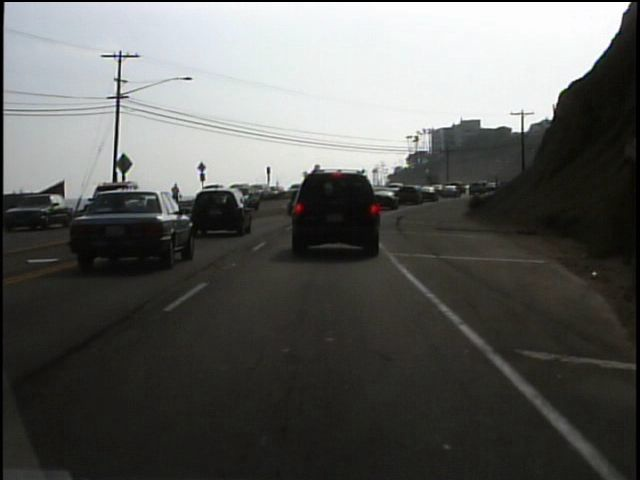person: (168, 181, 184, 210)
